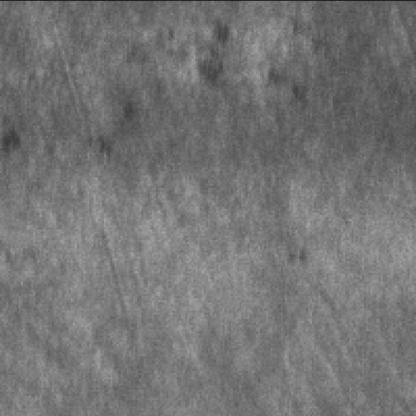rolled-in_scale: (179, 23, 322, 108)
